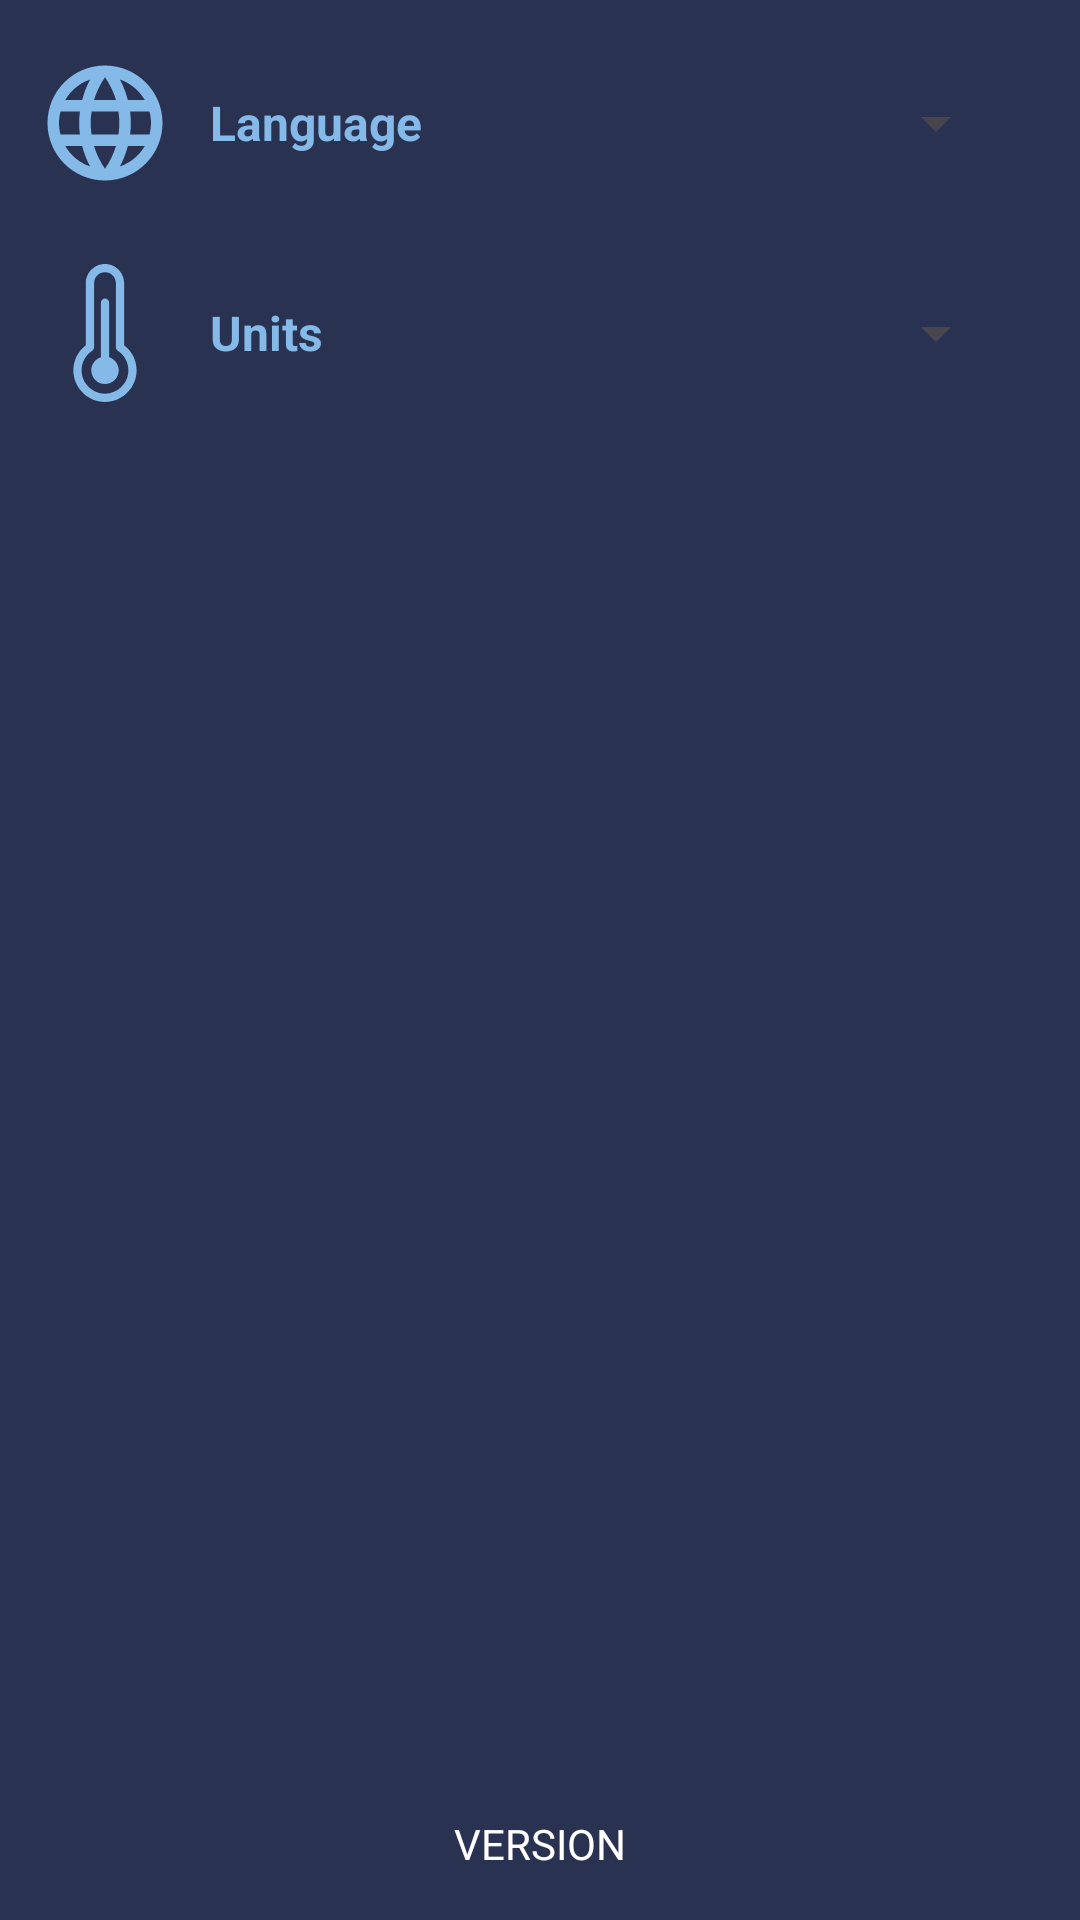

Named icons in this screenshot (1080px x 1920px) and their centers, point (x, y):
temperature: point (105, 333)
